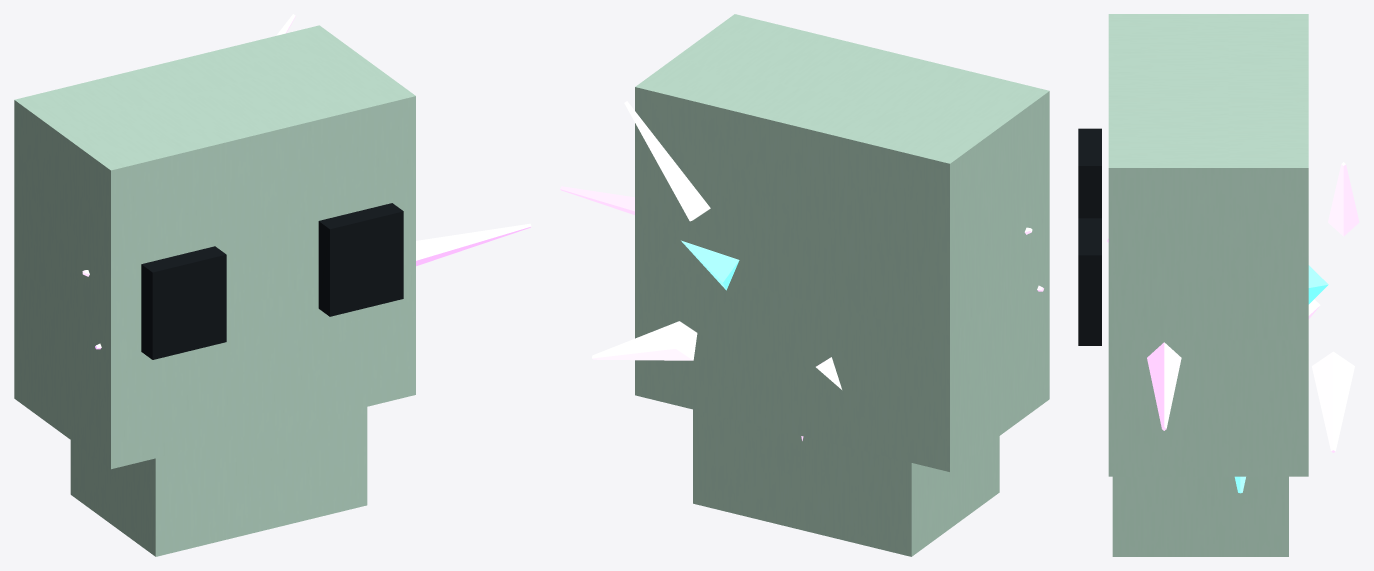
Rendered from souls.glb.
3 views of the same model, side by side, from view 1: azimuth 30°, elevation 25°; view 2: azimuth 150°, elevation 25°; view 3: azimuth 270°, elevation 25° (orthographic). The views are drawn at different scales.
Parts seen in each view (by area): view 1: Soul Harvest dimensional effect.001; view 2: Soul Harvest dimensional effect.001; view 3: Soul Harvest dimensional effect.001.
Boxes of the visible parts, <box> form: Soul Harvest dimensional effect.001: <box>14,14,531,556</box>; Soul Harvest dimensional effect.001: <box>560,14,1049,556</box>; Soul Harvest dimensional effect.001: <box>1078,14,1359,556</box>.
Bounding box in the file's own units: 1.38 × 1.17 × 0.7176.
Materials: 5 (2 with a texture image).
